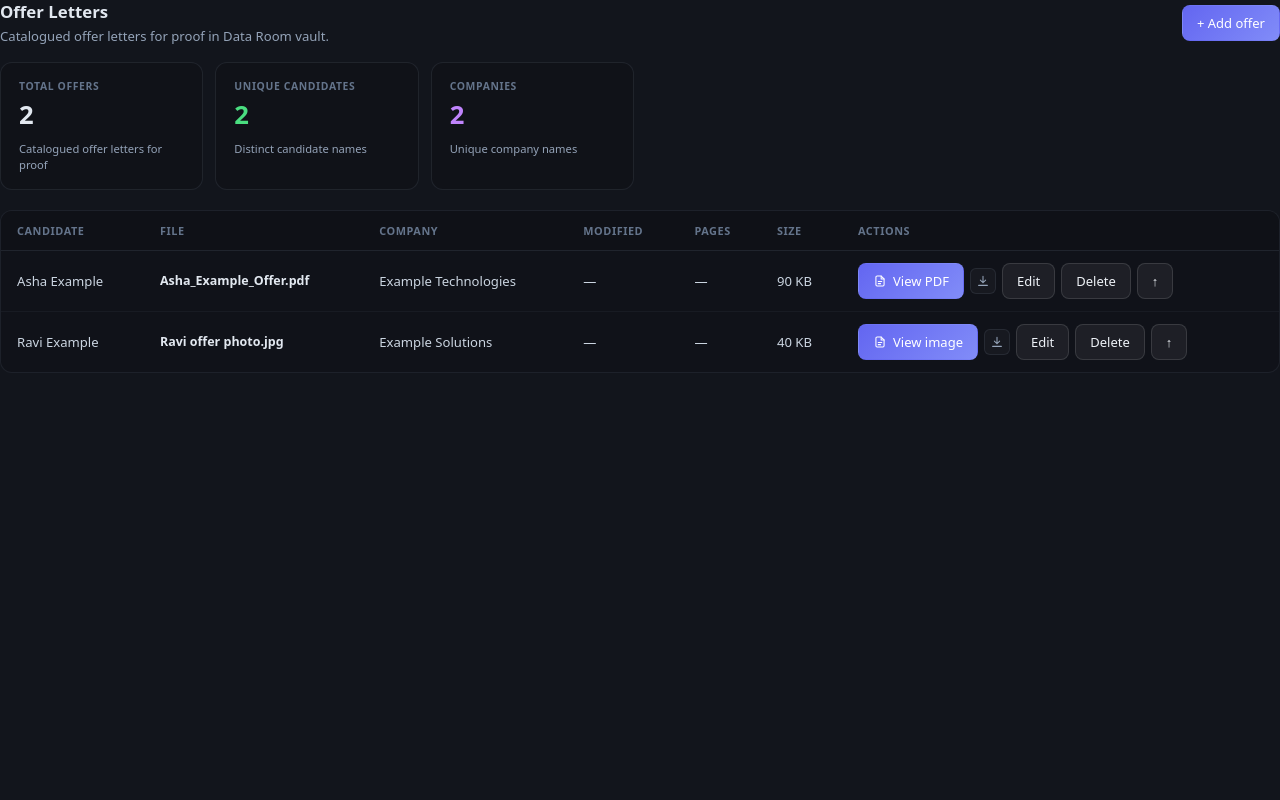
the preview of a PDF › shows the server's reason when there is no file
Click the button with aria-label "View PDF for Asha Example" at [911, 280], box [858,262,964,298]
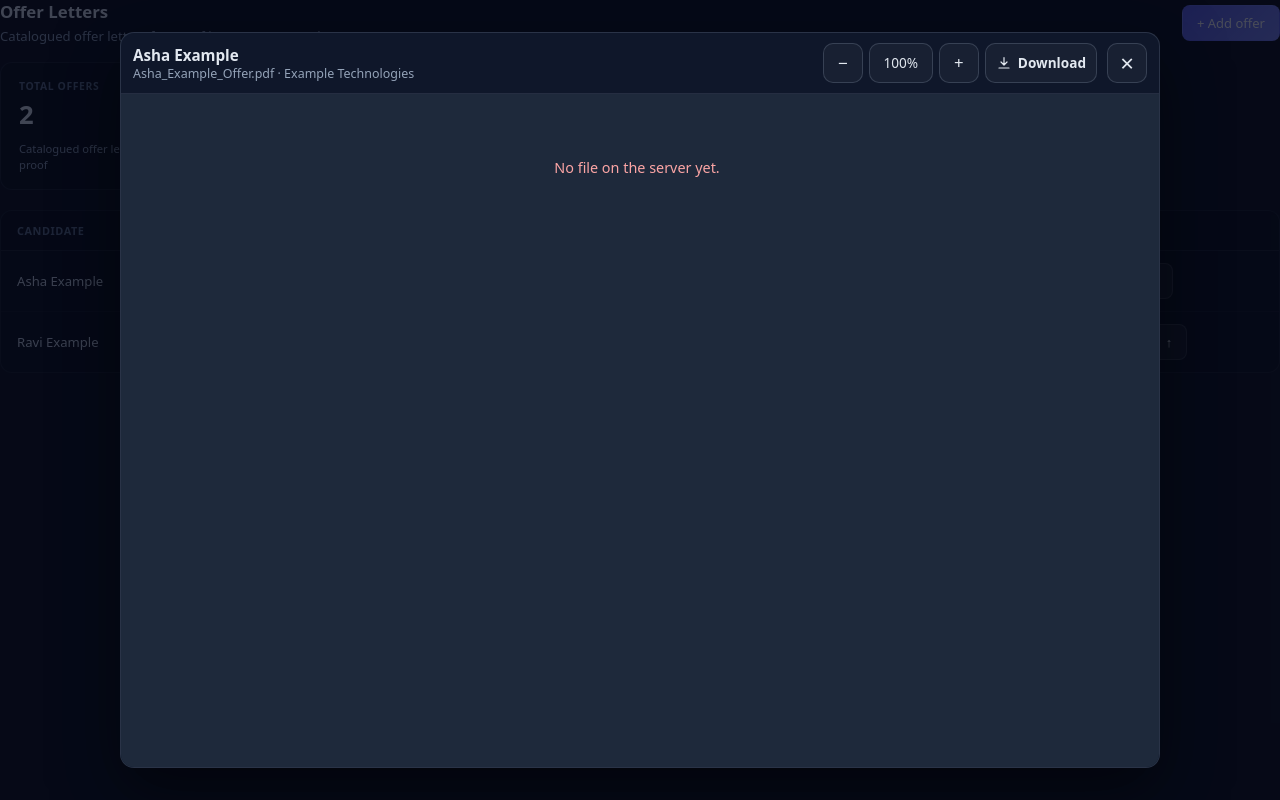
Expected: the message reads "No file on the server yet.", [554,158,720,177]
